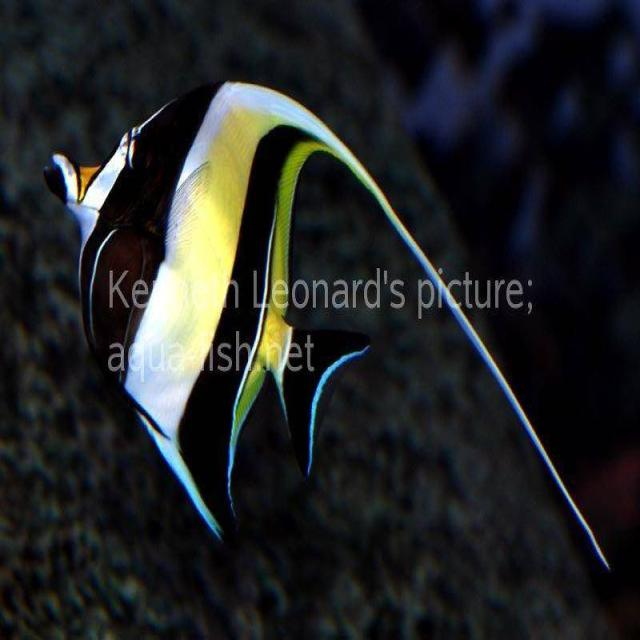MorishIdol: (41, 77, 611, 573)
